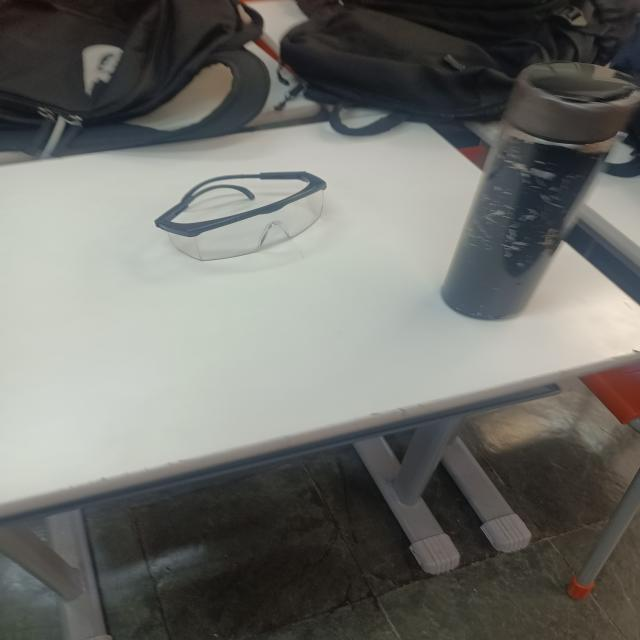oculos-epi: (152, 171, 326, 261)
